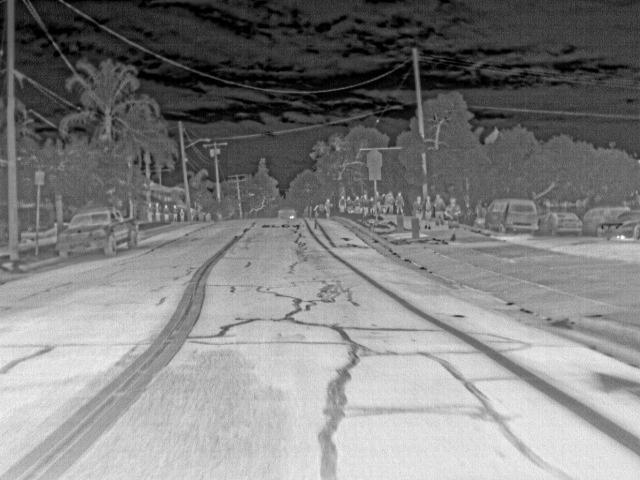car: (57, 207, 139, 261), (489, 197, 538, 232), (597, 209, 639, 240), (539, 211, 581, 233), (584, 204, 600, 237), (275, 206, 294, 220)
person: (446, 196, 461, 241), (421, 193, 434, 231), (433, 193, 445, 225), (474, 199, 488, 226), (371, 190, 385, 215), (394, 190, 407, 216), (383, 190, 396, 216), (360, 192, 373, 218), (411, 192, 424, 217), (350, 193, 362, 215), (153, 199, 165, 221), (344, 193, 356, 214), (336, 194, 348, 215), (323, 197, 335, 218), (145, 200, 157, 221), (162, 202, 170, 223), (171, 204, 180, 222), (177, 208, 185, 221)
